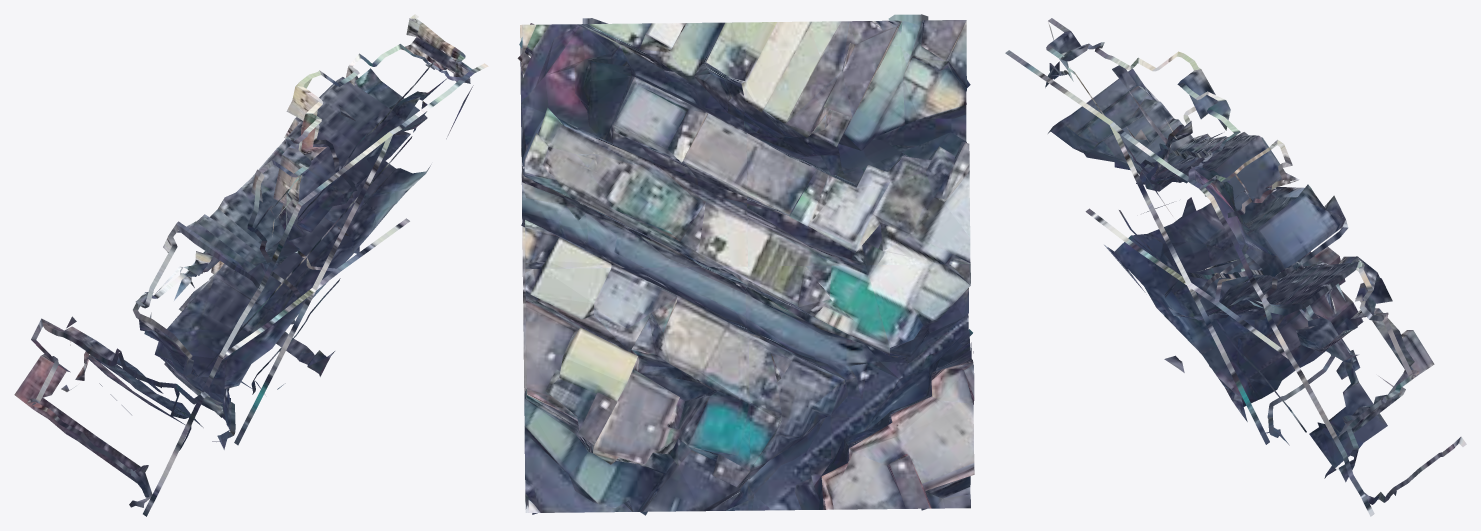
The picture shows the model from 3 angles, left to right: view 1: azimuth 30°, elevation 25°; view 2: azimuth 150°, elevation 25°; view 3: azimuth 270°, elevation 25°; orthographic projection. The views are drawn at different scales.
Bounding box in the file's own units: 89.11 × 77.44 × 80.2.
2 materials, 2 textured.
